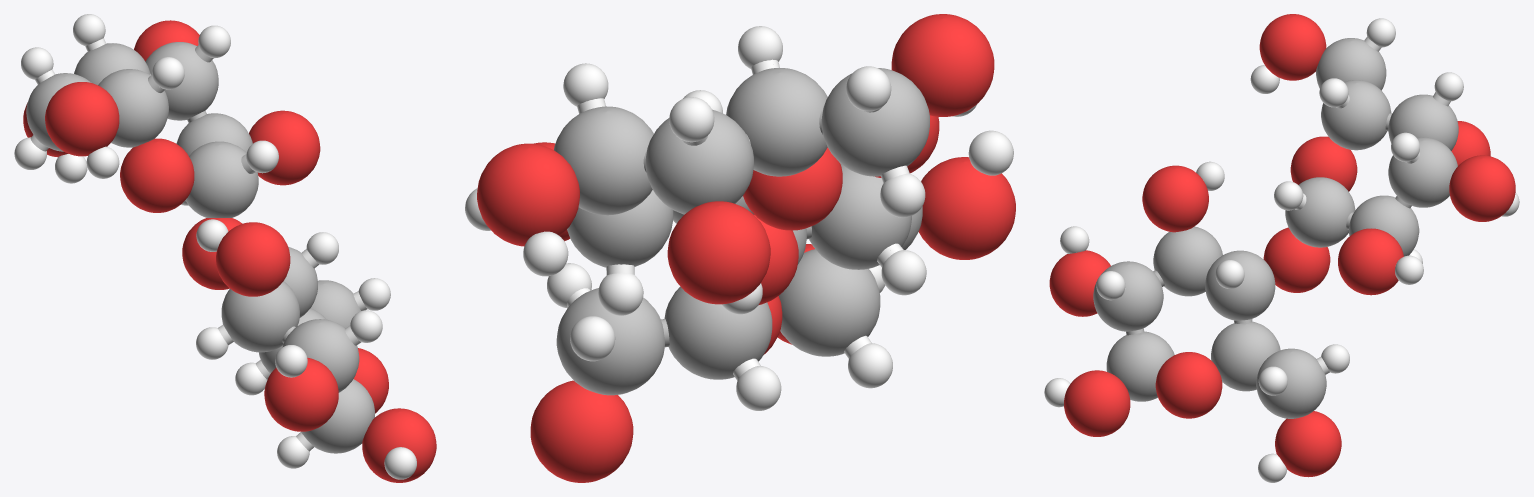
File: lactosa.glb
The picture shows the model from 3 angles, left to right: view 1: azimuth 30°, elevation 25°; view 2: azimuth 150°, elevation 25°; view 3: azimuth 270°, elevation 25°; orthographic projection. The views are drawn at different scales.
Visible parts, largest first — view 1: Oxygen_ball_20, Oxygen_ball, Oxygen_ball_2, Carbon_ball, Oxygen_ball_18, Carbon_ball_18, Carbon_ball_4, Oxygen_ball_16, Oxygen_ball_8, Carbon_ball_2, Carbon_ball_10, Carbon_ball_12 (+27 smaller); view 2: Oxygen_ball_4, Carbon_ball_4, Oxygen_ball_6, Oxygen_ball_14, Carbon_ball_2, Carbon_ball_10, Oxygen_ball_18, Oxygen_ball_2, Carbon_ball_16, Carbon_ball_6, Carbon_ball_22, Carbon_ball_20 (+24 smaller); view 3: Oxygen_ball_12, Oxygen_ball_6, Oxygen_ball_16, Oxygen_ball_20, Oxygen_ball_2, Carbon_ball, Carbon_ball_18, Carbon_ball_4, Oxygen_ball_14, Oxygen_ball_8, Carbon_ball_2, Carbon_ball_20 (+26 smaller).
Part boxes in pixels (bbox=[...]): Oxygen_ball_20: bbox=[216, 222, 290, 296]; Oxygen_ball: bbox=[120, 138, 194, 212]; Oxygen_ball_2: bbox=[45, 82, 119, 156]; Carbon_ball: bbox=[185, 141, 258, 217]; Oxygen_ball_18: bbox=[264, 357, 338, 431]; Carbon_ball_18: bbox=[221, 281, 299, 352]; Carbon_ball_4: bbox=[98, 69, 168, 147]; Oxygen_ball_16: bbox=[362, 408, 436, 482]; Oxygen_ball_8: bbox=[249, 110, 320, 185]; Carbon_ball_2: bbox=[145, 42, 218, 120]; Carbon_ball_10: bbox=[301, 379, 374, 453]; Carbon_ball_12: bbox=[282, 319, 359, 392]; Oxygen_ball_4: bbox=[667, 201, 770, 304]; Carbon_ball_4: bbox=[726, 68, 827, 176]; Oxygen_ball_6: bbox=[477, 143, 579, 246]; Oxygen_ball_14: bbox=[530, 380, 633, 482]; Carbon_ball_2: bbox=[554, 106, 653, 215]; Carbon_ball_10: bbox=[779, 249, 880, 356]; Oxygen_ball_18: bbox=[918, 157, 1015, 259]; Oxygen_ball_2: bbox=[891, 14, 994, 116]; Carbon_ball_16: bbox=[821, 68, 929, 176]; Carbon_ball_6: bbox=[645, 109, 753, 214]; Carbon_ball_22: bbox=[556, 288, 664, 395]; Carbon_ball_20: bbox=[664, 286, 772, 379]; Oxygen_ball_12: bbox=[1155, 352, 1222, 418]; Oxygen_ball_6: bbox=[1449, 155, 1515, 221]; Oxygen_ball_16: bbox=[1064, 370, 1130, 436]; Oxygen_ball_20: bbox=[1142, 165, 1208, 232]; Oxygen_ball_2: bbox=[1259, 14, 1326, 80]; Carbon_ball: bbox=[1285, 177, 1355, 247]; Carbon_ball_18: bbox=[1153, 226, 1222, 296]; Carbon_ball_4: bbox=[1321, 80, 1391, 150]; Oxygen_ball_14: bbox=[1275, 411, 1341, 477]; Oxygen_ball_8: bbox=[1338, 228, 1403, 295]; Carbon_ball_2: bbox=[1388, 137, 1457, 207]; Carbon_ball_20: bbox=[1211, 321, 1280, 391].
Size of the model in its own units: 7.4 by 8.42 by 10.39.
